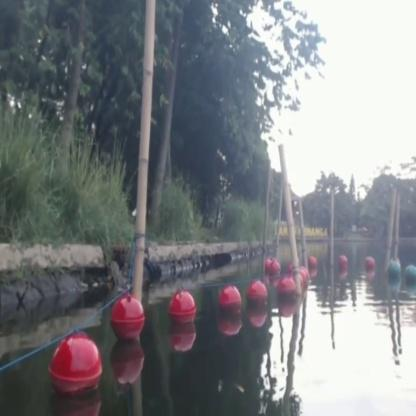green_buoy: (388, 261, 400, 283), (405, 265, 415, 289)
red_buoy: (50, 336, 102, 397), (110, 296, 144, 338), (168, 288, 196, 328), (216, 284, 242, 316), (278, 275, 296, 308), (247, 282, 265, 309), (268, 260, 280, 280), (338, 254, 348, 274), (308, 256, 318, 272), (365, 258, 376, 272)
